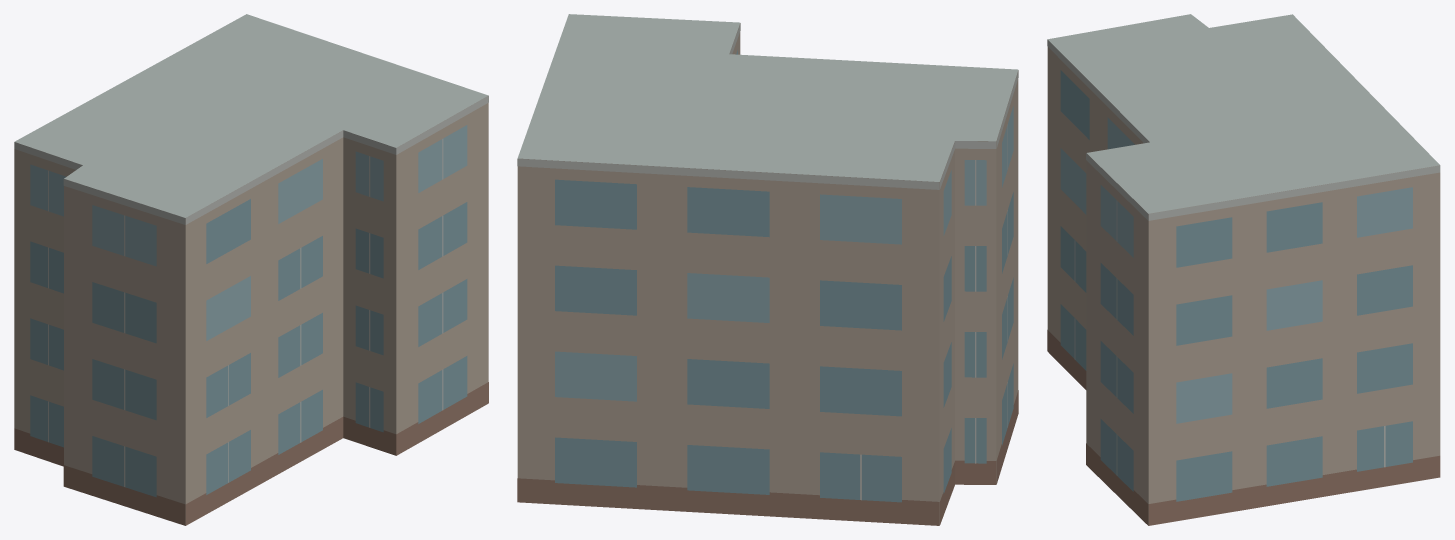
Rendered from survey-upis-32842234.glb.
3 renders of one model, left to right at view 1: azimuth 30°, elevation 25°; view 2: azimuth 150°, elevation 25°; view 3: azimuth 270°, elevation 25°, orthographic. The views are drawn at different scales.
Parts seen in each view (by area): view 1: survey-upis-32842234.tmp; view 2: survey-upis-32842234.tmp; view 3: survey-upis-32842234.tmp.
Boxes of the visible parts, x1=… form: survey-upis-32842234.tmp: x1=14, y1=14, x2=488, y2=525; survey-upis-32842234.tmp: x1=517, y1=14, x2=1018, y2=525; survey-upis-32842234.tmp: x1=1047, y1=14, x2=1440, y2=525.
Bounding box in the file's own units: 14.63 × 10.65 × 12.16.
